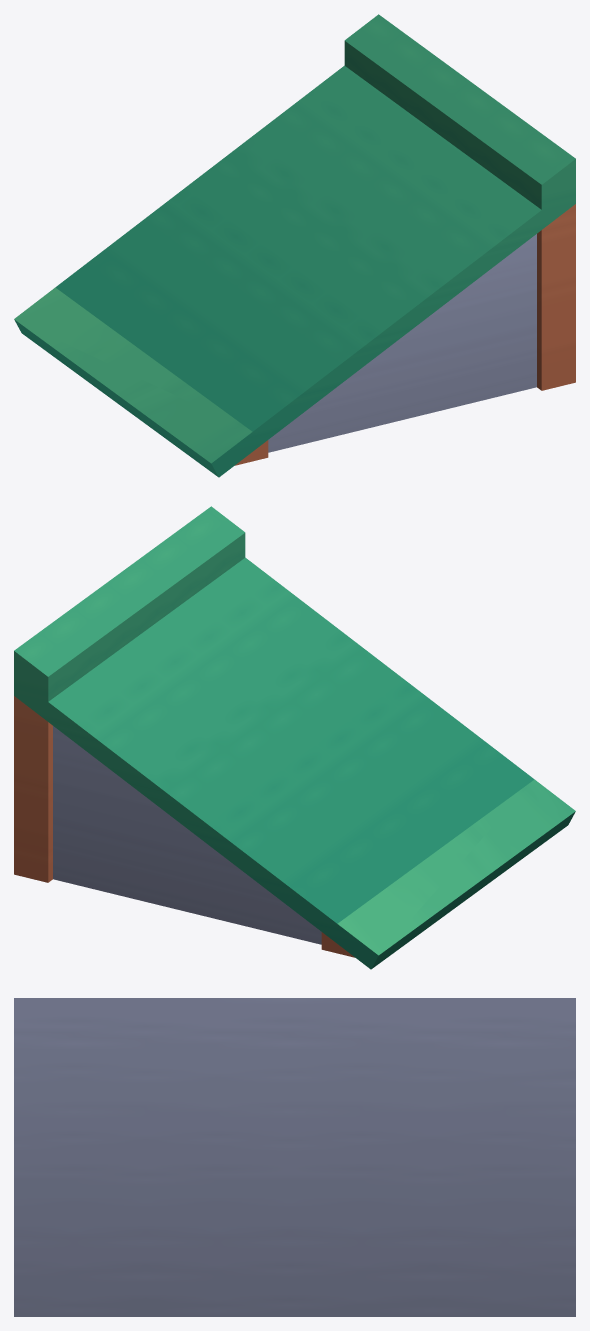
Rendered from roof.fbx.
3 views of the same model, one above another, from view 1: azimuth 30°, elevation 25°; view 2: azimuth 150°, elevation 25°; view 3: azimuth 270°, elevation 25° (orthographic). The views are drawn at different scales.
Visible parts, largest first — view 1: roof; view 2: roof; view 3: roof.
Part boxes in pixels (box(x1,y1,x2,y2)): roof: box(14, 14, 575, 477); roof: box(14, 506, 575, 969); roof: box(14, 998, 575, 1316).
Bounding box in the file's own units: 1.07 × 1 × 0.6483.
